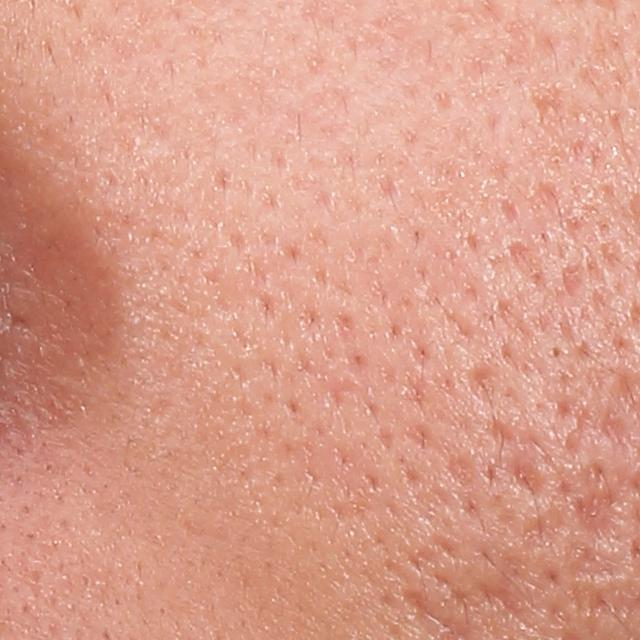atrophic_scar: (571, 462, 615, 534), (518, 504, 569, 552), (507, 240, 548, 292), (506, 457, 544, 497), (561, 260, 585, 302)
